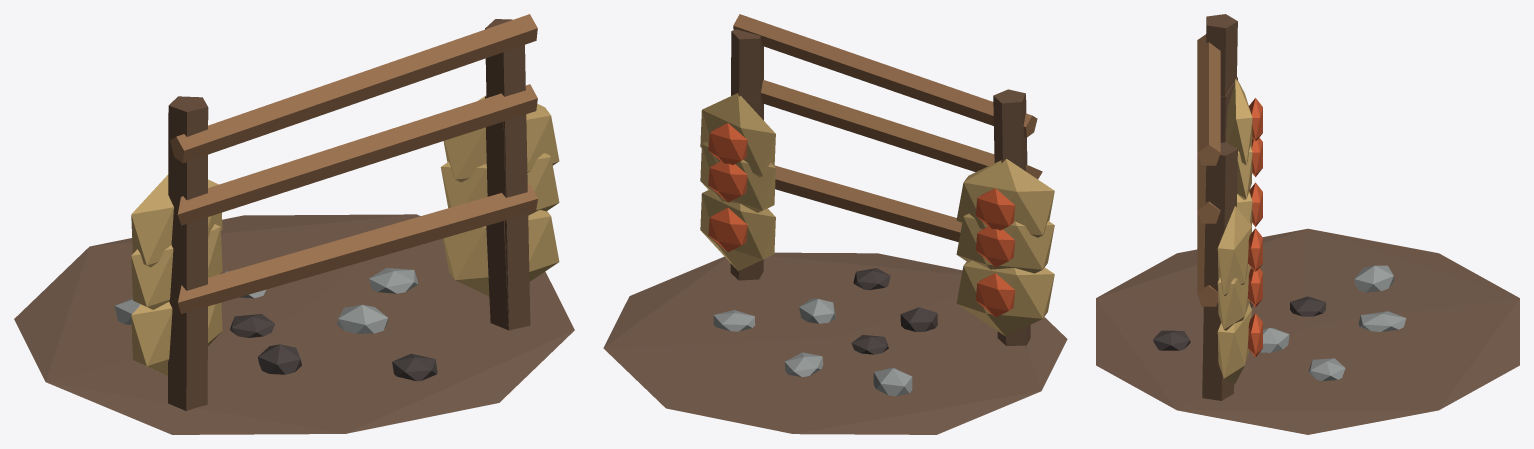
The model's file is barracks_stages.glb.
3 views of the same model, side by side, from view 1: azimuth 30°, elevation 25°; view 2: azimuth 150°, elevation 25°; view 3: azimuth 270°, elevation 25° (orthographic). The views are drawn at different scales.
Parts seen in each view (by area): view 1: Stage_Intact, Stage_Critical, Stage_Damaged; view 2: Stage_Intact, Stage_Critical, Stage_Damaged; view 3: Stage_Intact, Stage_Critical, Stage_Damaged.
Part boxes in pixels (x1,y1,x2,y2): Stage_Intact: [14, 14, 574, 434]; Stage_Critical: [131, 184, 559, 375]; Stage_Damaged: [131, 84, 559, 330]; Stage_Intact: [603, 14, 1067, 434]; Stage_Critical: [700, 165, 1054, 345]; Stage_Damaged: [700, 80, 1054, 341]; Stage_Intact: [1096, 14, 1519, 434]; Stage_Critical: [1197, 182, 1262, 400]; Stage_Damaged: [1197, 77, 1262, 393].
Size of what is drawn, in the model's own units: 3.26 by 2.03 by 2.91.
